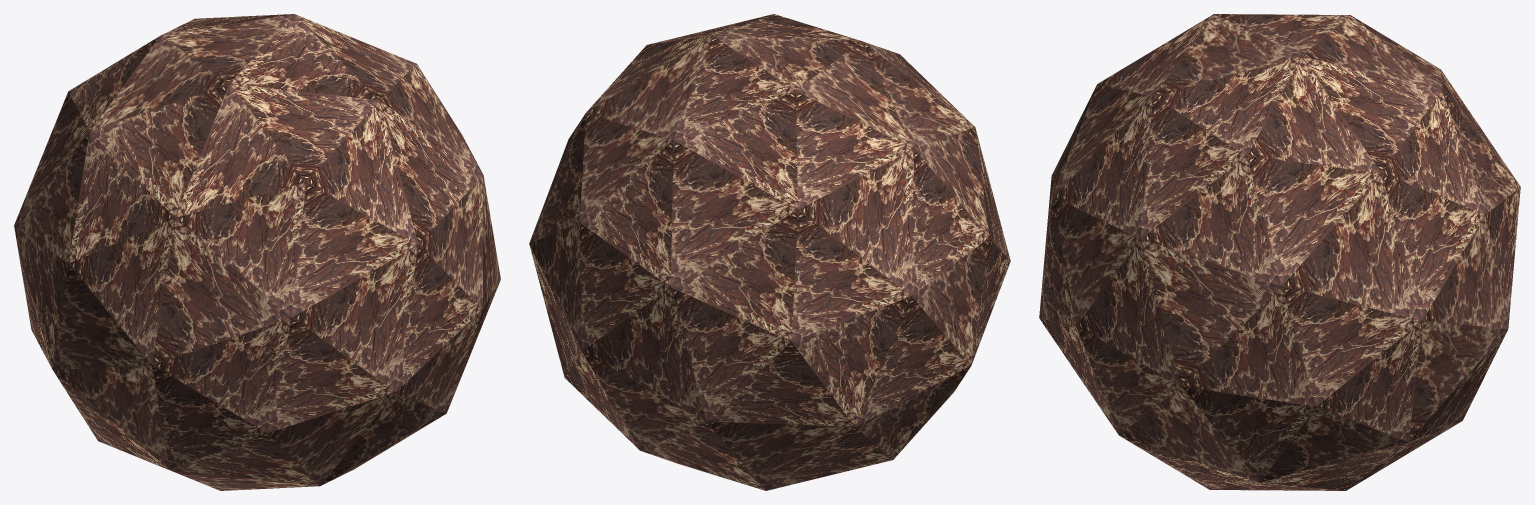
File: rockysphere.dae
3 views of the same model, side by side, from view 1: azimuth 30°, elevation 25°; view 2: azimuth 150°, elevation 25°; view 3: azimuth 270°, elevation 25° (orthographic). The views are drawn at different scales.
Parts seen in each view (by area): view 1: Icosphere; view 2: Icosphere; view 3: Icosphere.
Boxes of the visible parts, x1,y1,x2,y2 form: Icosphere: (14,14,500,490); Icosphere: (529,14,1010,490); Icosphere: (1039,14,1520,490).
Size of the model in its own units: 1.52 by 1.52 by 1.53.
1 material, 1 textured.
